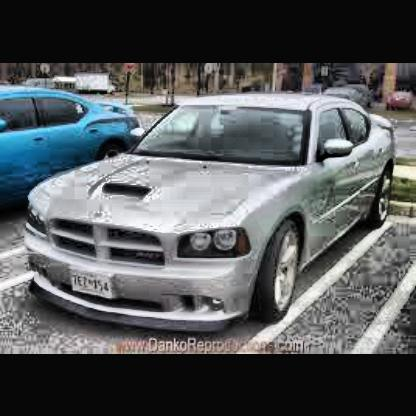Dodge Charger SRT-8 2009: (24, 94, 401, 339)
